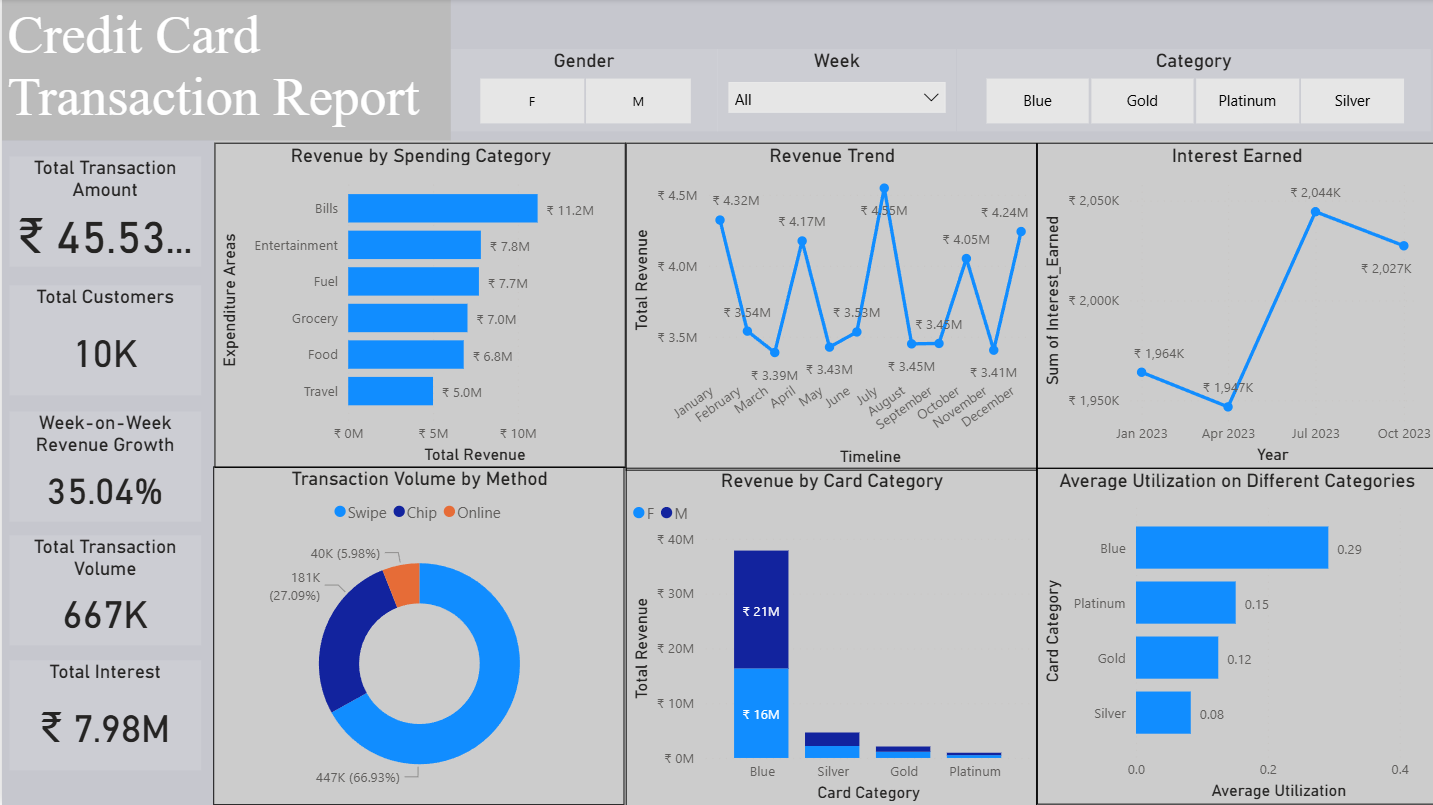

The dashboard page shown, as its layout file describes it:
{"tool":"powerbi","page":{"name":"Transaction Report","canvas":[1280,720],"ordinal":1},"visuals":[{"type":"shape","box":[0,126.7,189.4,593.8],"z":0},{"type":"shape","box":[400.9,0,879.6,126.7],"z":1000},{"type":"slicer","title":"Gender","fields":{"Values":["customer.Gender"]},"box":[400.8,45.1,238.2,73.2],"z":2000},{"type":"slicer","title":"Week","fields":{"Values":["CreditCard.Week_Num"]},"box":[639,45.1,213.8,73.2],"z":3000},{"type":"slicer","title":"Category","fields":{"Values":["CreditCard.Card_Category"]},"box":[852.8,45.1,423,73.2],"z":4000},{"type":"card","title":"Total Transaction Amount","fields":{"Values":["Sum(CreditCard.Total_Trans_Amt)"]},"box":[7,140.6,170.8,98.8],"z":5000},{"type":"card","title":"Total Customers","fields":{"Values":["Key_Measures.Total_Customers"]},"box":[7,255.6,170.8,98.8],"z":6000},{"type":"card","title":"Week-on-Week Revenue Growth","fields":{"Values":["Key_Measures.WoW_Revenue_Growth"]},"box":[7,368.3,170.8,98.8],"z":7000},{"type":"card","title":"Total Transaction Volume","fields":{"Values":["Key_Measures.Total_Trans_Vol"]},"box":[7,478.7,170.8,98.8],"z":10000},{"type":"card","title":"Total Interest","fields":{"Values":["Key_Measures.Total_Interest"]},"box":[7,590.3,170.8,98.8],"z":11000},{"type":"clusteredBarChart","title":"Revenue by Spending Category","fields":{"Category":["CreditCard.Exp Type"],"Y":["Key_Measures.Total_Revenue"]},"box":[189.4,127.8,367.2,290.5],"z":12000},{"type":"donutChart","title":"Transaction Volume by Method","fields":{"Category":["CreditCard.Use Chip"],"Y":["Key_Measures.Total_Trans_Vol"]},"box":[189,418,367,302],"z":13000},{"type":"lineChart","title":"Revenue Trend","fields":{"Y":["Key_Measures.Total_Revenue"],"Category":["Calendar.Date.Variation.Date Hierarchy.Year","Calendar.Date.Variation.Date Hierarchy.Quarter","Calendar.Date.Variation.Date Hierarchy.Month","Calendar.Date.Variation.Date Hierarchy.Day"]},"box":[557,128.4,367.3,292.5],"z":14000},{"type":"columnChart","title":"Revenue by Card Category","fields":{"Category":["CreditCard.Card_Category"],"Y":["Key_Measures.Total_Revenue"],"Series":["customer.Gender"]},"box":[556.6,418.3,367.2,302.1],"z":15000},{"type":"lineChart","title":"Interest Earned","fields":{"Category":["Calendar.Date.Variation.Date Hierarchy.Year","Calendar.Date.Variation.Date Hierarchy.Quarter","Calendar.Date.Variation.Date Hierarchy.Month","Calendar.Date.Variation.Date Hierarchy.Day"],"Y":["Sum(CreditCard.Interest_Earned)"]},"box":[924,128,356,291],"z":16000},{"type":"clusteredBarChart","title":"Average Utilization on Different Categories","fields":{"Category":["CreditCard.Card_Category"],"Y":["Avg(CreditCard.Avg_Utilization_Ratio)"]},"box":[924,419,356,301],"z":17000},{"type":"textbox","box":[0,0,400.9,126.7],"z":18001}]}

Visuals, with their boxes in screenshot pixels (x1, y1, x2, y2), scaled from the page's 1280x720 canvas onto the 1433x805 screenshot:
shape: <box>0,142,212,804</box>
shape: <box>449,0,1432,142</box>
"Gender" slicer: <box>449,50,715,132</box>
"Week" slicer: <box>715,50,955,132</box>
"Category" slicer: <box>955,50,1428,132</box>
"Total Transaction Amount" card: <box>8,157,199,268</box>
"Total Customers" card: <box>8,286,199,396</box>
"Week-on-Week Revenue Growth" card: <box>8,412,199,522</box>
"Total Transaction Volume" card: <box>8,535,199,646</box>
"Total Interest" card: <box>8,660,199,770</box>
"Revenue by Spending Category" clusteredBarChart: <box>212,143,623,468</box>
"Transaction Volume by Method" donutChart: <box>212,467,622,804</box>
"Revenue Trend" lineChart: <box>624,144,1035,471</box>
"Revenue by Card Category" columnChart: <box>623,468,1034,804</box>
"Interest Earned" lineChart: <box>1034,143,1432,468</box>
"Average Utilization on Different Categories" clusteredBarChart: <box>1034,468,1432,804</box>
textbox: <box>0,0,449,142</box>
